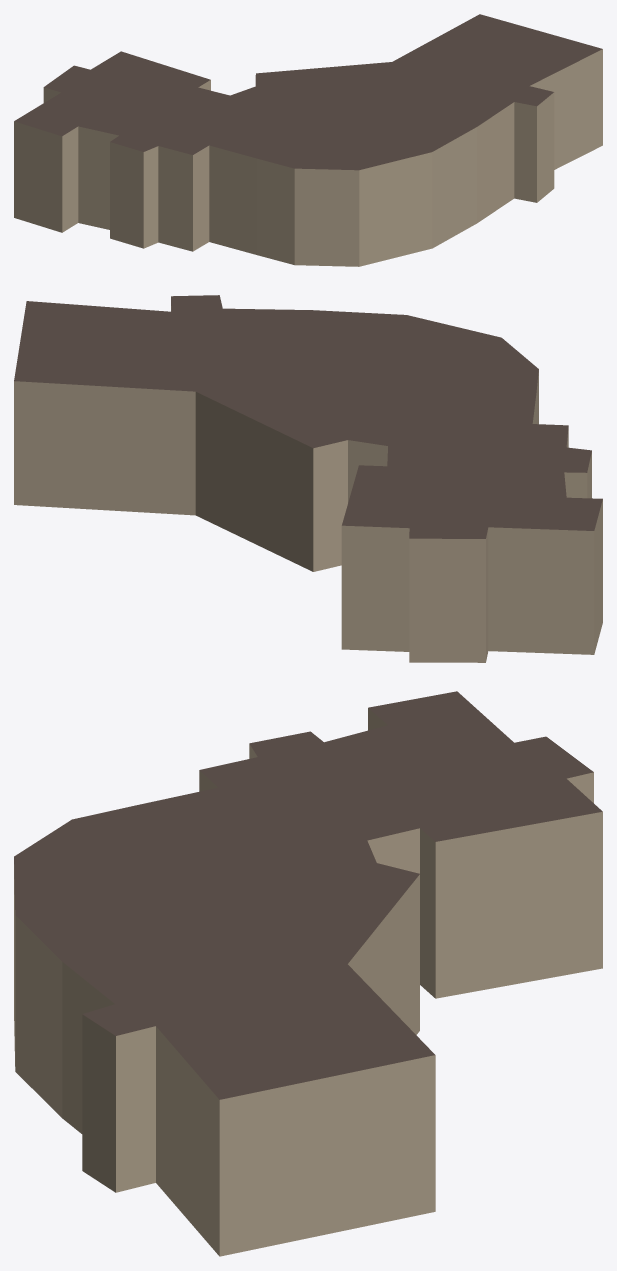
3 views of the same model, one above another, from view 1: azimuth 30°, elevation 25°; view 2: azimuth 150°, elevation 25°; view 3: azimuth 270°, elevation 25° (orthographic). The views are drawn at different scales.
Visible parts, largest first — view 1: HP-w1516733015; view 2: HP-w1516733015; view 3: HP-w1516733015.
Part boxes in pixels (bbox=[...]): HP-w1516733015: bbox=[14, 14, 602, 266]; HP-w1516733015: bbox=[14, 295, 602, 662]; HP-w1516733015: bbox=[14, 691, 602, 1256].
Size of the model in its own units: 50.31 by 9 by 30.65.
